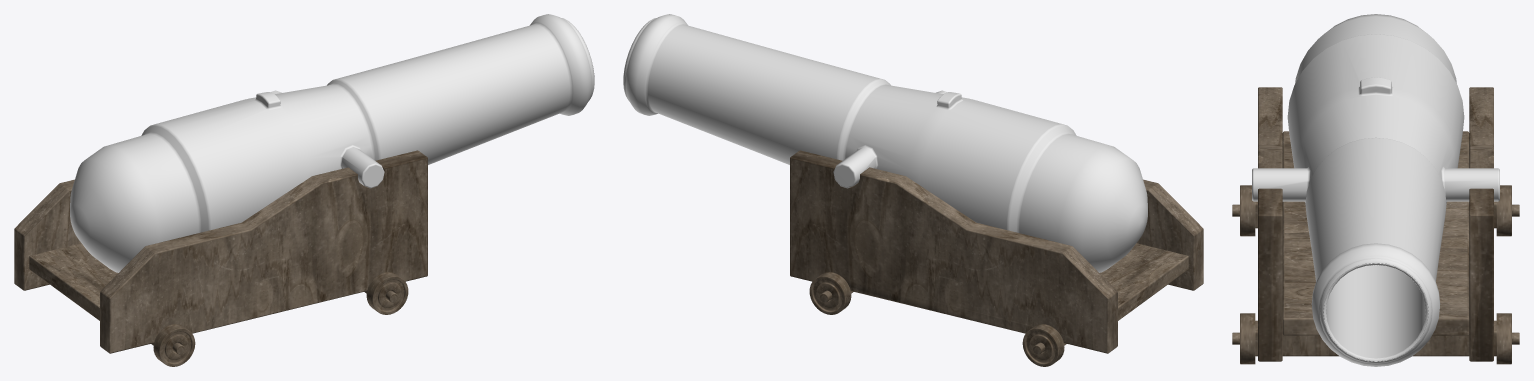
The model's file is canon.fbx.
The picture shows the model from 3 angles, left to right: view 1: azimuth 30°, elevation 25°; view 2: azimuth 150°, elevation 25°; view 3: azimuth 270°, elevation 25°; orthographic projection. The views are drawn at different scales.
Visible parts, largest first — view 1: Cylinder; view 2: Cylinder; view 3: Cylinder.
Boxes of the visible parts, box(x1,y1,x2,y2) form: Cylinder: box(14, 14, 594, 366); Cylinder: box(623, 14, 1203, 366); Cylinder: box(1232, 14, 1519, 366).
Size of the model in its own units: 357 by 134 by 140.
Materials: 2 (1 with a texture image).
